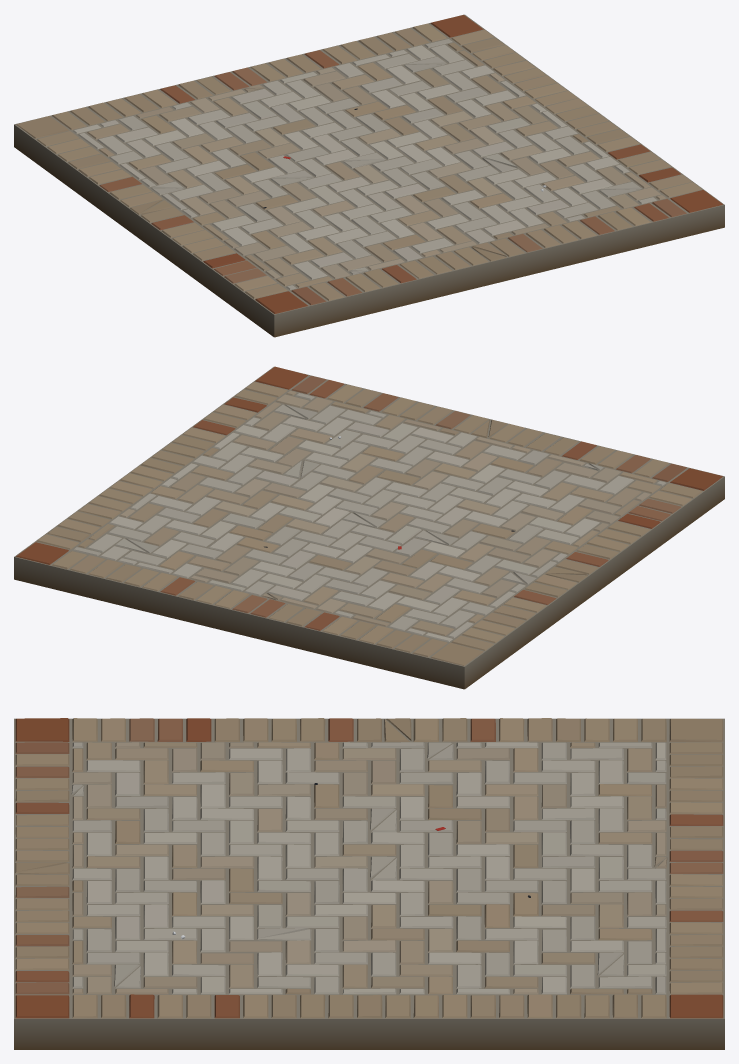
Rendered from paved-midway-tile.glb.
3 views of the same model, one above another, from view 1: azimuth 30°, elevation 25°; view 2: azimuth 150°, elevation 25°; view 3: azimuth 270°, elevation 25° (orthographic). The views are drawn at different scales.
Parts seen in each view (by area): view 1: paved_midway_tile; view 2: paved_midway_tile; view 3: paved_midway_tile.
Part boxes in pixels (bbox=[...]): paved_midway_tile: bbox=[14, 14, 724, 337]; paved_midway_tile: bbox=[14, 366, 724, 689]; paved_midway_tile: bbox=[14, 718, 724, 1049].
Size of the model in its own units: 4 by 0.2212 by 4.
